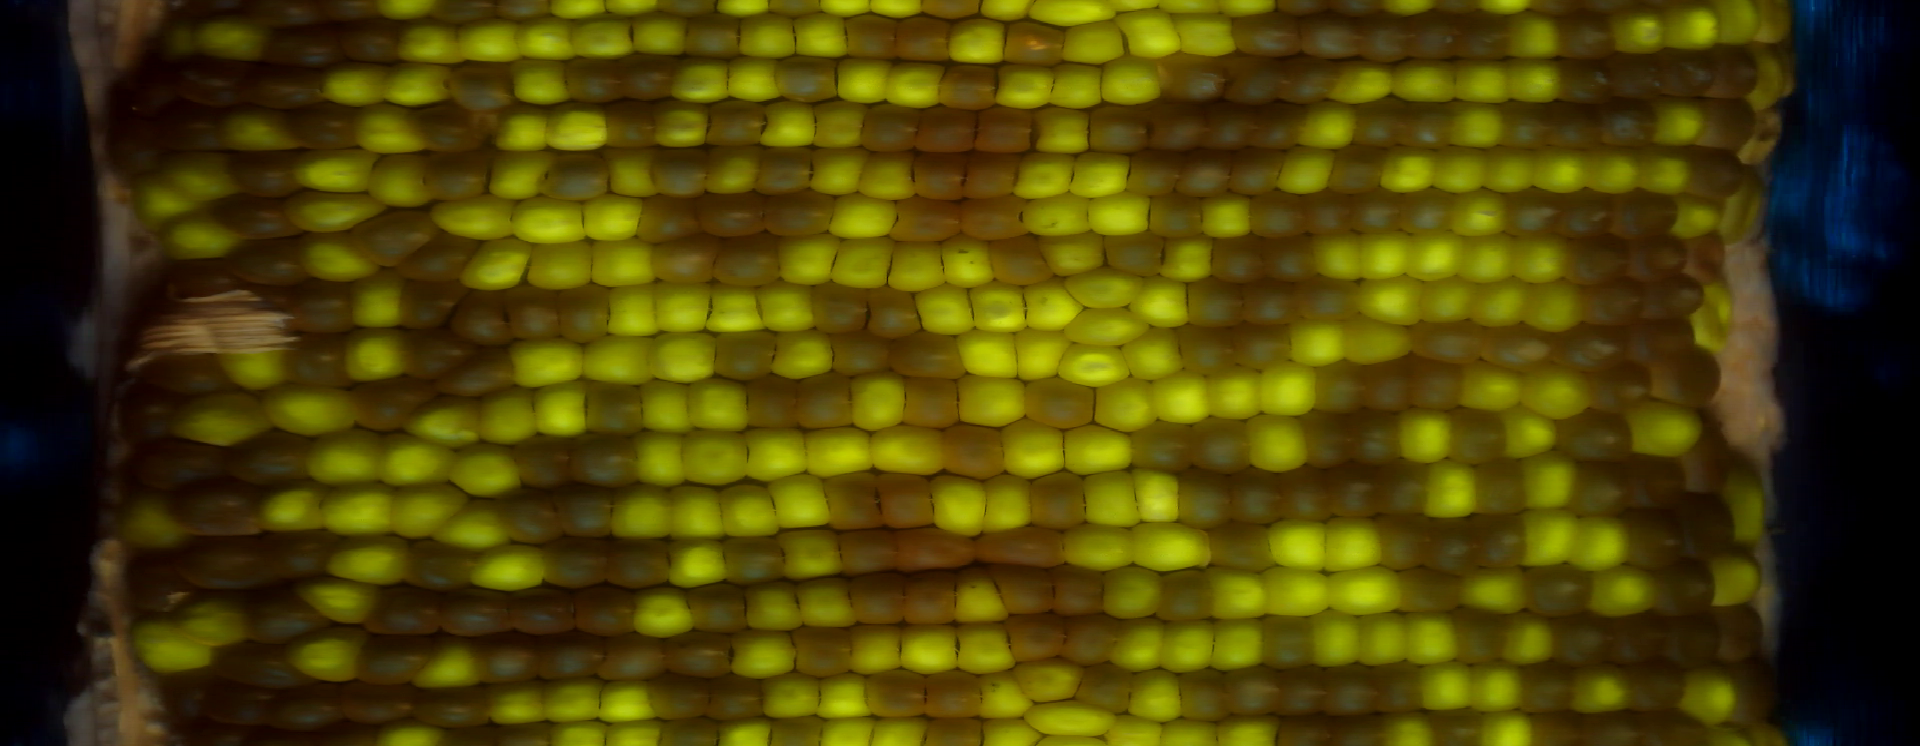fluorescent: (171, 392, 276, 450), (309, 425, 393, 488), (864, 420, 951, 480), (294, 572, 377, 633), (402, 392, 486, 450), (329, 535, 418, 590), (317, 480, 398, 540), (377, 429, 456, 490), (386, 480, 467, 539), (1509, 365, 1591, 423), (135, 617, 213, 677), (1624, 397, 1703, 456), (1127, 519, 1220, 570), (1056, 420, 1138, 477), (263, 386, 362, 432), (1073, 465, 1146, 528), (298, 232, 382, 285), (713, 477, 782, 541), (288, 627, 370, 682), (517, 238, 598, 292), (738, 424, 813, 481), (508, 195, 591, 246), (579, 334, 655, 391), (624, 578, 694, 639), (773, 524, 845, 583), (284, 185, 386, 227), (451, 441, 524, 499), (1000, 416, 1067, 480), (797, 420, 872, 477), (681, 425, 749, 486), (1322, 513, 1391, 575), (1722, 470, 1774, 550), (460, 234, 531, 293), (426, 196, 520, 240), (470, 540, 551, 592), (504, 332, 583, 385), (293, 146, 375, 196), (929, 469, 988, 539), (1060, 519, 1138, 572), (667, 480, 730, 545), (435, 499, 513, 550), (587, 236, 661, 290), (827, 187, 902, 240), (954, 372, 1026, 428), (846, 370, 909, 434), (765, 470, 830, 532), (418, 630, 482, 691), (1389, 405, 1455, 465), (681, 376, 749, 434), (220, 98, 291, 153), (1329, 566, 1404, 617), (950, 565, 1013, 627), (1103, 561, 1166, 624), (1389, 53, 1461, 107), (1356, 271, 1428, 325), (729, 625, 798, 680), (1019, 190, 1097, 239), (1067, 304, 1153, 348), (947, 620, 1018, 674), (1008, 320, 1071, 380), (1460, 356, 1523, 416), (1251, 412, 1315, 472), (369, 149, 433, 208), (831, 233, 898, 290), (650, 330, 718, 386), (176, 597, 246, 650), (796, 570, 858, 630), (350, 103, 429, 151), (167, 148, 238, 201), (752, 277, 817, 334), (1205, 359, 1262, 424), (1125, 323, 1191, 380), (1424, 454, 1480, 521), (118, 496, 184, 552), (1091, 379, 1158, 434), (1062, 265, 1141, 311), (397, 16, 465, 70), (1128, 664, 1188, 725), (481, 383, 540, 446), (742, 576, 804, 635), (1100, 50, 1163, 108), (1452, 229, 1517, 285), (1325, 54, 1393, 107), (1260, 517, 1329, 570), (1562, 661, 1631, 714), (1152, 367, 1212, 428), (131, 174, 204, 223), (1134, 271, 1193, 332), (1021, 269, 1082, 328), (613, 481, 675, 540), (1209, 565, 1270, 624), (1498, 403, 1560, 461), (1571, 510, 1629, 572), (1681, 661, 1739, 724), (944, 12, 1008, 69), (1067, 146, 1131, 201), (1256, 364, 1321, 419), (1521, 450, 1576, 514), (1341, 311, 1416, 359), (733, 9, 800, 62), (546, 100, 612, 154), (1262, 563, 1329, 617), (988, 56, 1056, 109), (966, 281, 1033, 333), (160, 212, 236, 258), (889, 234, 949, 293), (651, 277, 714, 333), (665, 533, 729, 588), (1118, 6, 1183, 60), (1025, 696, 1117, 734), (1109, 620, 1176, 673), (568, 11, 636, 62), (1430, 145, 1498, 196), (1052, 343, 1130, 387), (760, 96, 820, 153), (624, 429, 686, 485), (776, 230, 839, 285), (1518, 274, 1581, 330), (918, 283, 981, 338), (814, 665, 877, 720), (1587, 570, 1658, 617), (189, 18, 263, 64), (376, 61, 451, 107), (602, 281, 661, 338), (1416, 655, 1473, 714), (1172, 9, 1239, 59), (491, 100, 552, 156), (1031, 102, 1093, 156), (1523, 507, 1577, 570), (767, 334, 835, 383), (1461, 567, 1529, 616), (898, 622, 961, 675), (1467, 659, 1524, 717), (1509, 228, 1565, 287), (320, 61, 391, 108), (529, 382, 591, 435), (262, 480, 324, 533), (760, 668, 823, 720), (576, 192, 644, 240), (939, 230, 996, 288), (847, 620, 904, 677), (1407, 228, 1466, 283), (1354, 608, 1409, 666), (860, 149, 920, 203), (956, 330, 1019, 381), (647, 96, 710, 146), (1524, 145, 1588, 195), (983, 470, 1033, 534), (349, 271, 404, 328), (1160, 620, 1217, 675), (489, 148, 547, 202), (1280, 145, 1338, 198), (1608, 2, 1668, 55), (1452, 187, 1512, 240), (708, 281, 768, 333), (1463, 277, 1526, 327), (626, 9, 689, 58), (882, 59, 945, 108), (808, 141, 863, 197), (836, 53, 894, 107), (345, 328, 404, 381), (1307, 229, 1367, 281), (1041, 230, 1107, 277), (1131, 465, 1182, 527), (1581, 145, 1640, 196), (456, 18, 520, 65), (1455, 56, 1515, 107), (724, 50, 784, 100), (218, 345, 288, 388), (793, 9, 849, 62), (809, 96, 864, 149), (1505, 9, 1561, 61), (673, 51, 730, 104), (1709, 551, 1762, 608), (1300, 98, 1358, 149), (633, 379, 691, 430), (1504, 56, 1565, 104), (1403, 608, 1457, 661), (516, 56, 572, 108), (1091, 191, 1155, 236), (1014, 149, 1073, 198), (1356, 229, 1414, 278), (1482, 141, 1536, 194), (976, 666, 1029, 720), (1382, 141, 1434, 196), (1196, 190, 1251, 241), (1067, 17, 1125, 65), (484, 681, 547, 725), (1727, 176, 1768, 244), (594, 680, 655, 725), (1413, 274, 1469, 323), (1697, 282, 1735, 354), (1314, 608, 1360, 666), (1509, 608, 1551, 671), (1209, 619, 1262, 669), (1022, 655, 1084, 699), (518, 16, 576, 62), (1742, 108, 1788, 167), (707, 145, 758, 196), (605, 148, 655, 201), (1656, 96, 1704, 149), (546, 675, 602, 722), (1051, 61, 1102, 111), (1453, 98, 1504, 149), (1291, 317, 1344, 365), (1671, 1, 1731, 43), (1633, 149, 1692, 191), (1158, 236, 1213, 281), (1100, 710, 1161, 746), (1716, 1, 1761, 48), (1673, 198, 1723, 240), (1751, 51, 1788, 108), (1760, 1, 1796, 51)
nonfluorescent: (168, 477, 267, 543), (173, 533, 269, 598), (1651, 338, 1724, 413), (225, 424, 312, 485), (130, 437, 225, 491), (365, 579, 444, 643), (355, 208, 440, 267), (219, 639, 309, 693), (247, 588, 331, 646), (171, 56, 256, 113), (224, 145, 304, 203), (1524, 562, 1602, 622), (209, 191, 299, 243), (1152, 51, 1236, 107), (400, 538, 478, 597), (276, 277, 355, 333), (567, 434, 647, 490), (354, 628, 430, 687), (873, 467, 939, 534), (819, 467, 888, 532), (1404, 316, 1489, 369), (1022, 372, 1100, 430), (146, 350, 231, 402), (1480, 318, 1561, 372), (988, 562, 1060, 622), (263, 20, 342, 75), (889, 327, 969, 381), (1554, 408, 1633, 462), (1652, 555, 1716, 622), (498, 486, 571, 545), (223, 235, 307, 285), (349, 374, 425, 429), (710, 325, 781, 383), (1449, 405, 1512, 470), (282, 325, 349, 386), (508, 578, 578, 637), (473, 628, 542, 687), (410, 102, 493, 151), (503, 281, 566, 345), (1193, 414, 1258, 477), (446, 62, 519, 118), (809, 278, 876, 339), (436, 586, 514, 637), (509, 432, 579, 490), (972, 530, 1071, 571), (896, 524, 976, 575), (1558, 318, 1630, 374), (266, 528, 338, 583), (440, 348, 518, 398), (639, 191, 709, 247), (336, 676, 418, 724), (644, 235, 720, 287), (1678, 141, 1740, 203), (1026, 472, 1089, 534), (847, 565, 907, 630), (787, 620, 852, 680), (1599, 606, 1667, 664), (1582, 363, 1651, 419), (394, 233, 475, 281), (708, 232, 778, 287), (604, 535, 673, 590), (287, 99, 361, 151), (888, 192, 962, 244), (1180, 276, 1245, 334), (1686, 418, 1731, 501), (860, 666, 929, 720), (796, 370, 856, 432), (898, 370, 958, 432), (1258, 609, 1318, 671), (1271, 660, 1333, 720), (1675, 495, 1734, 559), (544, 538, 615, 590), (538, 630, 609, 682), (1624, 228, 1689, 285), (1298, 407, 1356, 472), (404, 323, 470, 380), (1205, 523, 1277, 575), (424, 149, 491, 205), (988, 236, 1056, 292), (939, 424, 1008, 478), (917, 102, 981, 159), (1513, 659, 1577, 717), (970, 104, 1035, 160), (152, 102, 223, 153), (1229, 461, 1281, 532), (568, 583, 639, 635), (1176, 465, 1229, 533), (958, 192, 1030, 243), (1103, 230, 1176, 281), (538, 151, 613, 198), (1178, 318, 1238, 379), (555, 478, 613, 539), (418, 677, 491, 726), (1472, 456, 1528, 519), (703, 185, 768, 240), (1131, 419, 1196, 474), (721, 532, 787, 586), (1375, 454, 1428, 522), (253, 62, 326, 111), (760, 191, 836, 238), (863, 285, 923, 344), (686, 579, 747, 637), (1160, 565, 1221, 622), (1709, 609, 1771, 666), (1572, 461, 1629, 523), (458, 287, 513, 350), (662, 630, 736, 677), (1397, 565, 1462, 619), (1084, 104, 1151, 156), (1577, 278, 1644, 330), (1420, 516, 1479, 575), (1555, 183, 1615, 240), (584, 376, 644, 434), (1002, 13, 1063, 70), (1626, 450, 1682, 511), (126, 554, 181, 616), (902, 565, 958, 627), (160, 665, 216, 728), (1229, 320, 1293, 374), (1276, 465, 1333, 524), (1178, 668, 1236, 726), (1321, 661, 1379, 720), (650, 146, 710, 202), (1411, 354, 1467, 414), (1224, 51, 1286, 107), (404, 274, 467, 328), (560, 283, 613, 345), (283, 676, 345, 730), (924, 668, 987, 722), (771, 54, 840, 103), (647, 670, 710, 723), (594, 633, 670, 677), (1247, 190, 1311, 241), (836, 528, 902, 578), (862, 99, 921, 156), (1549, 612, 1609, 668), (1309, 360, 1370, 414), (1349, 409, 1403, 470), (1451, 603, 1500, 670), (1378, 517, 1434, 575), (1698, 99, 1757, 154), (1365, 352, 1414, 418), (1281, 53, 1341, 107), (1660, 612, 1720, 666), (1300, 9, 1363, 60), (1498, 185, 1560, 236), (1561, 235, 1624, 287), (1629, 317, 1693, 366), (211, 680, 276, 729), (898, 12, 954, 69), (1076, 660, 1133, 717), (1224, 664, 1281, 720), (1151, 100, 1209, 156), (913, 149, 969, 207), (840, 9, 899, 62), (1620, 659, 1679, 713), (617, 50, 677, 103), (1300, 272, 1360, 325), (1654, 48, 1716, 99), (1326, 461, 1378, 522), (958, 149, 1021, 198), (1611, 186, 1675, 235), (1244, 276, 1302, 330), (1375, 660, 1429, 718), (1003, 608, 1062, 660), (1555, 56, 1615, 108), (564, 55, 624, 107), (1478, 510, 1529, 570), (338, 16, 400, 65), (1347, 96, 1403, 149), (1357, 7, 1409, 65), (705, 97, 763, 149), (1231, 146, 1288, 198), (1625, 510, 1678, 567), (1060, 612, 1118, 665), (939, 61, 999, 111), (831, 328, 891, 379), (1400, 96, 1453, 151), (1555, 9, 1613, 60), (1547, 102, 1604, 153), (1147, 191, 1205, 243), (708, 670, 765, 722), (1054, 565, 1104, 624), (684, 13, 744, 62), (1236, 13, 1302, 58), (744, 375, 798, 429), (756, 145, 812, 196), (1204, 100, 1261, 151), (1596, 102, 1656, 149), (1209, 234, 1266, 283), (1609, 50, 1662, 103), (1499, 100, 1551, 153), (1330, 143, 1382, 196), (1408, 11, 1462, 62), (1458, 11, 1509, 66), (600, 99, 655, 149), (1707, 45, 1756, 102), (1177, 149, 1233, 198), (1260, 235, 1318, 282), (1641, 274, 1700, 320), (1251, 100, 1305, 149), (1128, 148, 1179, 198), (1309, 186, 1358, 238), (1684, 229, 1727, 285), (1402, 187, 1452, 235), (1351, 186, 1403, 232)
